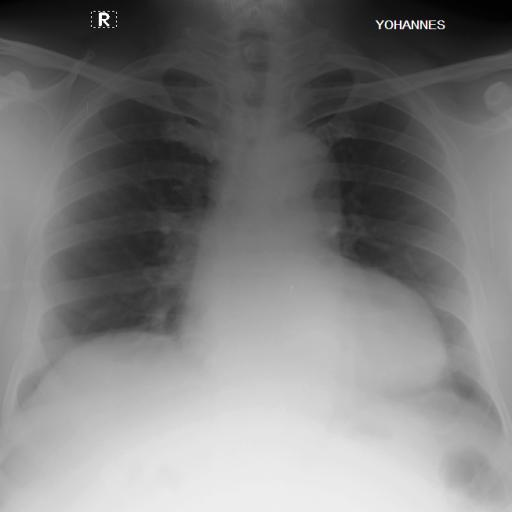kardiomegali: (8, 41, 508, 431)
